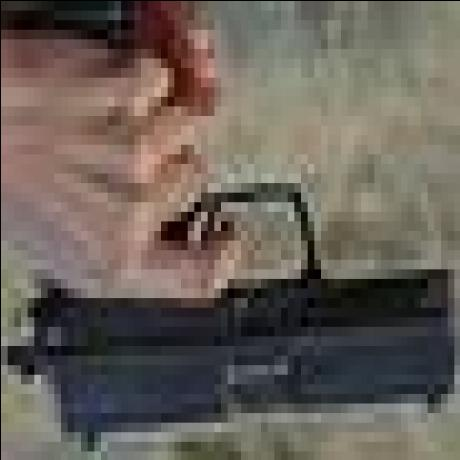1: (0, 0, 240, 326)
weapon: (18, 147, 460, 439)
